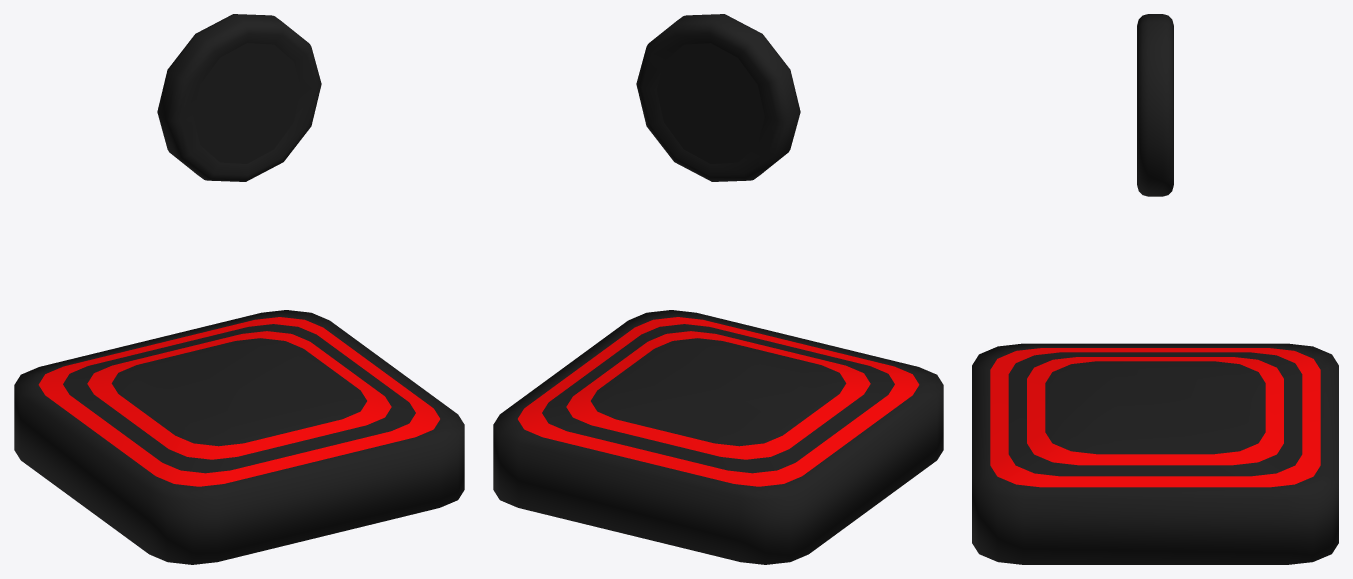
File: Coin.fbx
3 renders of one model, left to right at view 1: azimuth 30°, elevation 25°; view 2: azimuth 150°, elevation 25°; view 3: azimuth 270°, elevation 25°, orthographic. The views are drawn at different scales.
Parts seen in each view (by area): view 1: BaseCoin, Coin; view 2: BaseCoin, Coin; view 3: BaseCoin, Coin.
Boxes of the visible parts, box(x1,y1,x2,y2) form: BaseCoin: box(14, 310, 464, 564); Coin: box(157, 14, 321, 181); BaseCoin: box(493, 310, 943, 564); Coin: box(636, 14, 800, 181); BaseCoin: box(972, 343, 1338, 564); Coin: box(1137, 14, 1173, 196).
Size of the model in its own units: 1 by 1 by 1.4.
